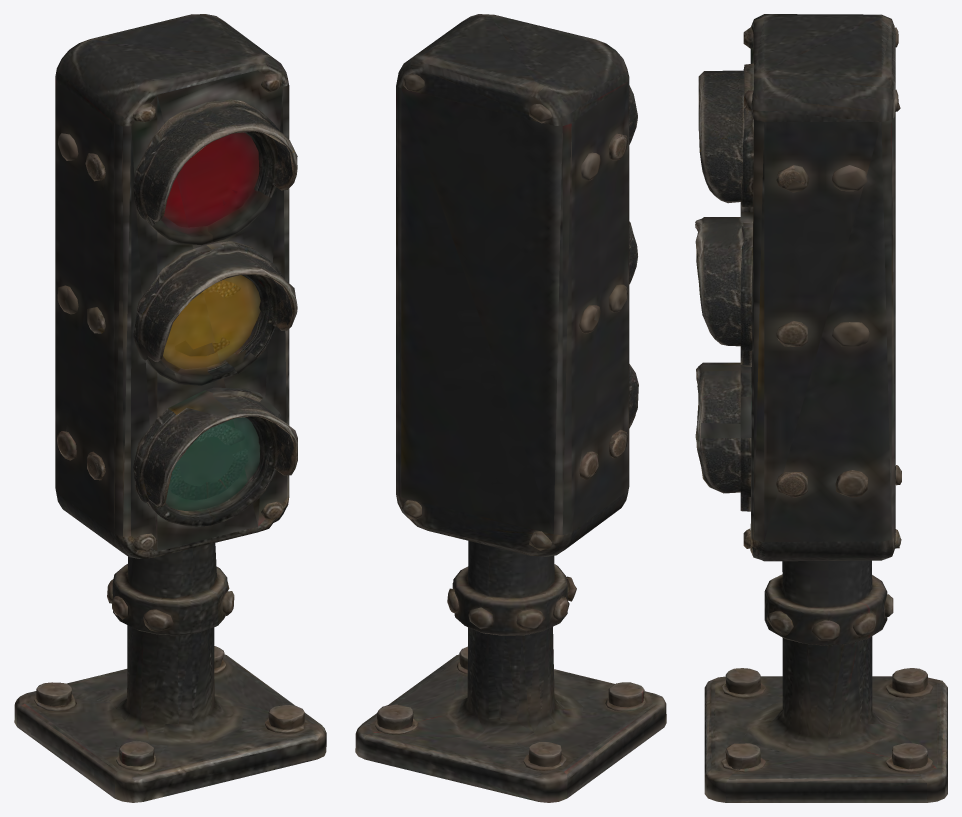
The model's file is p7-signal-head-spare-t25.glb.
3 renders of one model, left to right at view 1: azimuth 30°, elevation 25°; view 2: azimuth 150°, elevation 25°; view 3: azimuth 270°, elevation 25°, orthographic. The views are drawn at different scales.
Parts seen in each view (by area): view 1: p7-signal-head-spare-t25; view 2: p7-signal-head-spare-t25; view 3: p7-signal-head-spare-t25.
Boxes of the visible parts, x1=… form: p7-signal-head-spare-t25: x1=14, y1=14, x2=326, y2=802; p7-signal-head-spare-t25: x1=355, y1=14, x2=666, y2=802; p7-signal-head-spare-t25: x1=695, y1=14, x2=947, y2=802.
Size of the model in its own units: 0.35 by 1.1 by 0.357.
1 material, 1 textured.
